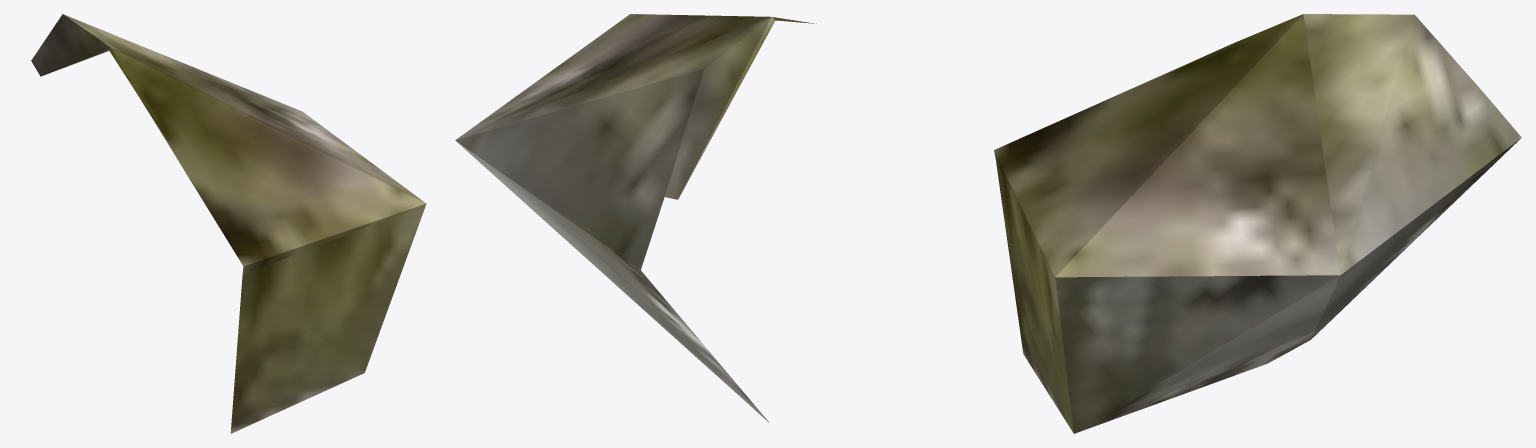
3 views of the same model, side by side, from view 1: azimuth 30°, elevation 25°; view 2: azimuth 150°, elevation 25°; view 3: azimuth 270°, elevation 25° (orthographic). The views are drawn at different scales.
Bounding box in the file's own units: 0.0539 × 0.0748 × 0.1019.
1 material, 1 textured.
